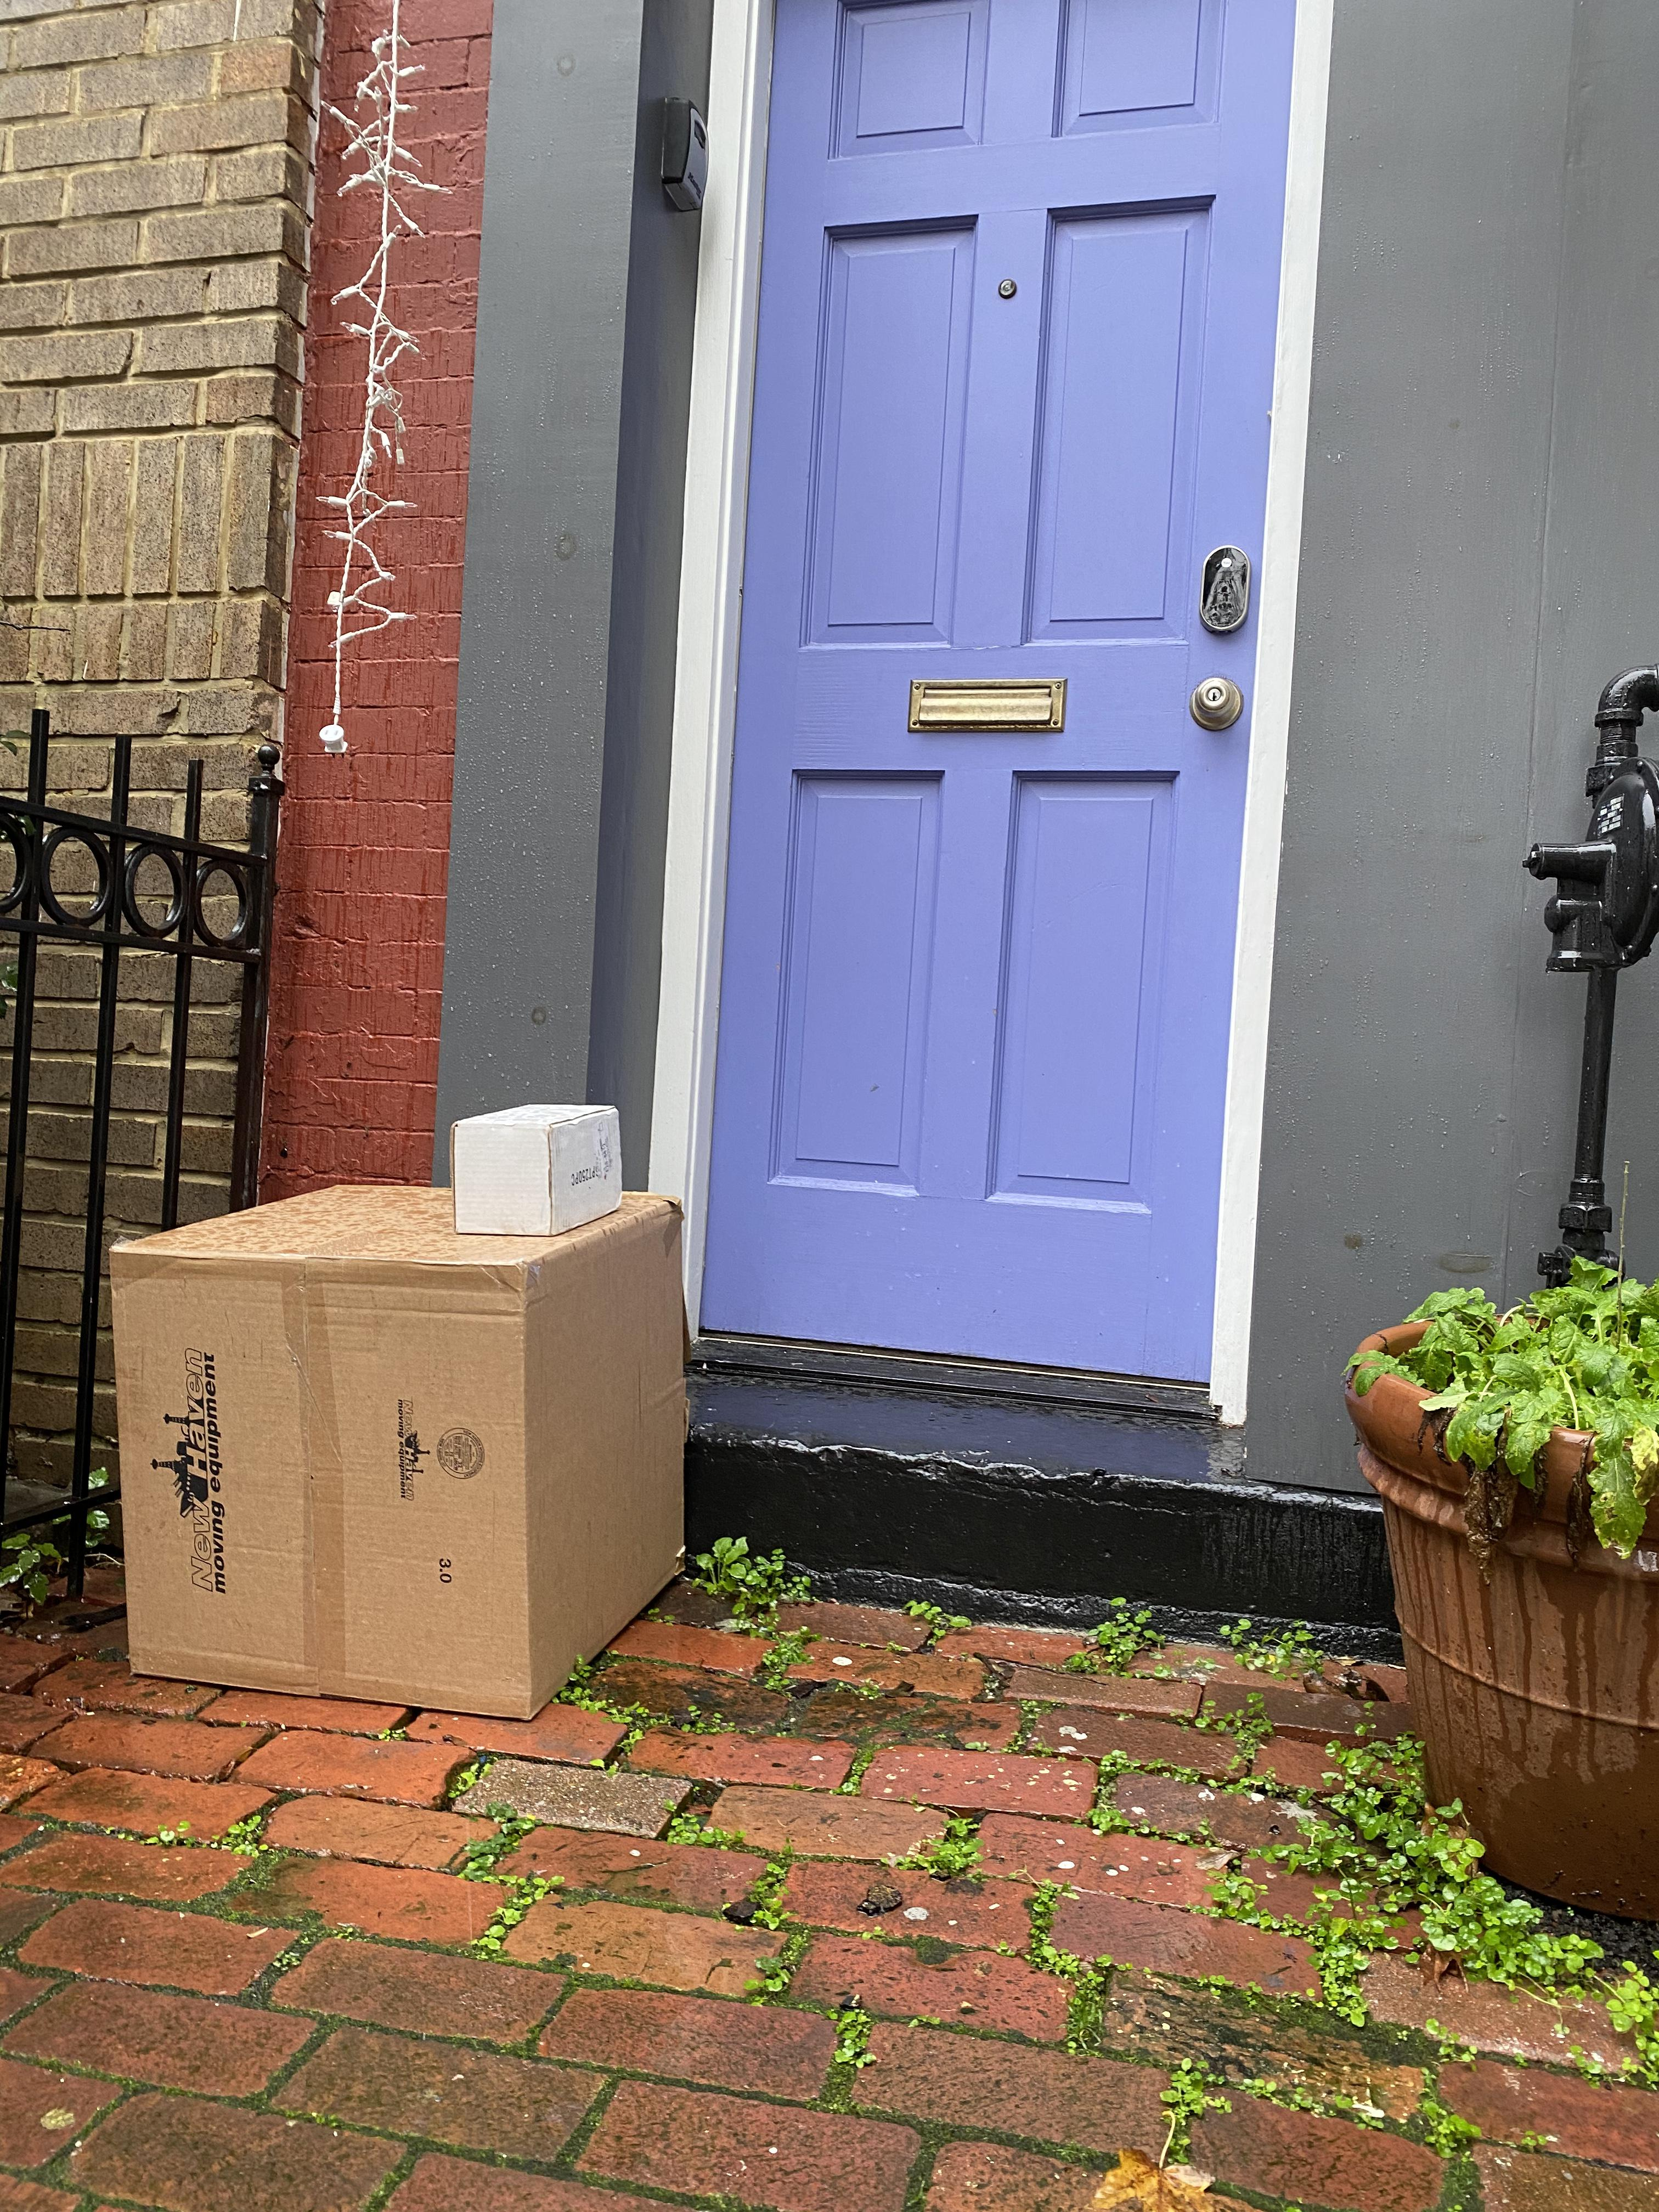package: (105, 1170, 716, 1731), (437, 1087, 643, 1245)
